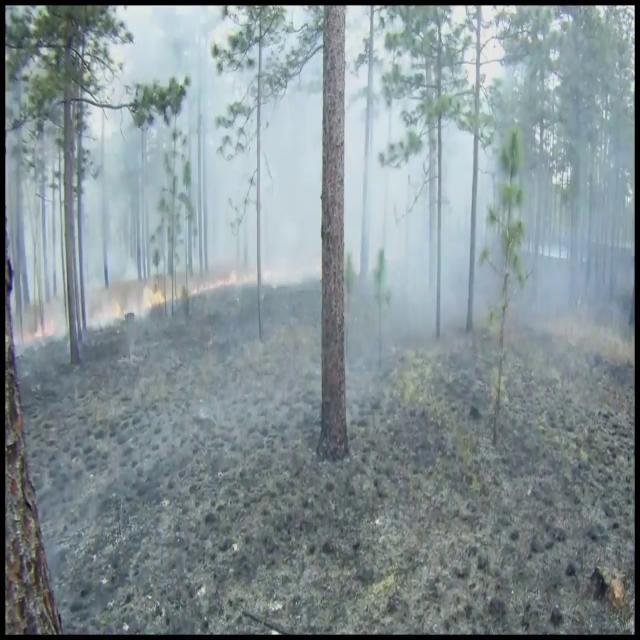Smoke: (68, 16, 630, 406)
